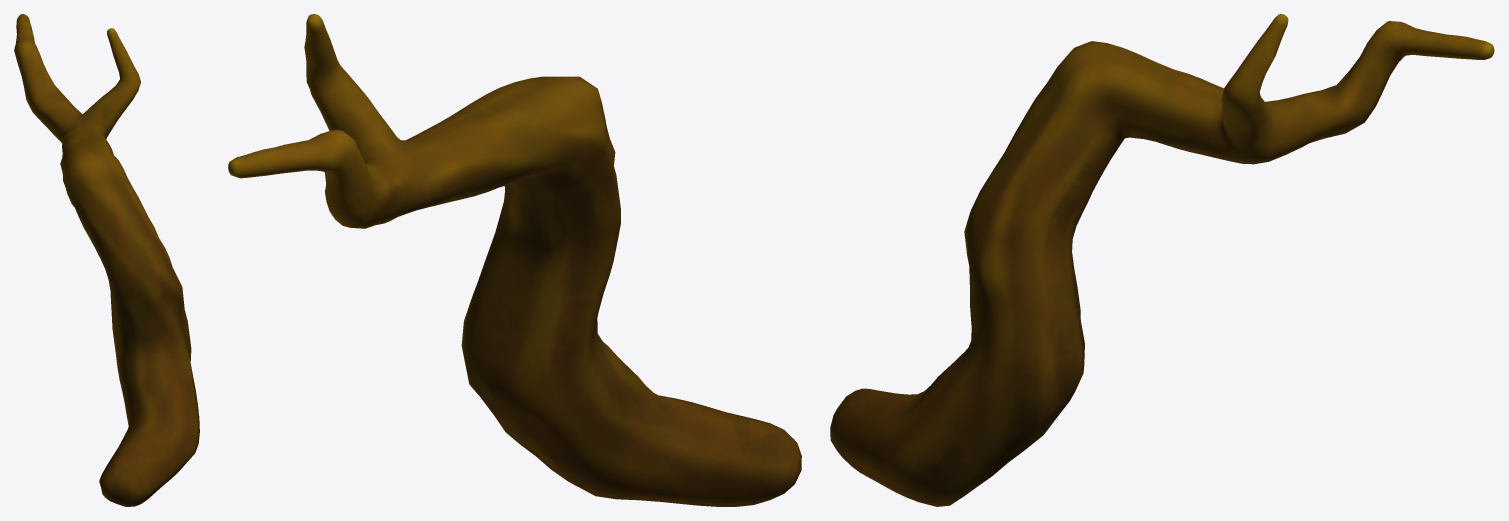
The model's file is SM_Root_6_Trunk.fbx.
3 renders of one model, left to right at view 1: azimuth 30°, elevation 25°; view 2: azimuth 150°, elevation 25°; view 3: azimuth 270°, elevation 25°, orthographic. The views are drawn at different scales.
Parts seen in each view (by area): view 1: SM_Root_6_Trunk_LOD0; view 2: SM_Root_6_Trunk_LOD0; view 3: SM_Root_6_Trunk_LOD0.
Part boxes in pixels (<box>): SM_Root_6_Trunk_LOD0: <box>14,14,199,506</box>; SM_Root_6_Trunk_LOD0: <box>228,14,801,506</box>; SM_Root_6_Trunk_LOD0: <box>830,14,1494,506</box>.
Bounding box in the file's own units: 98.64 × 231 × 207.
1 material, 1 textured.
